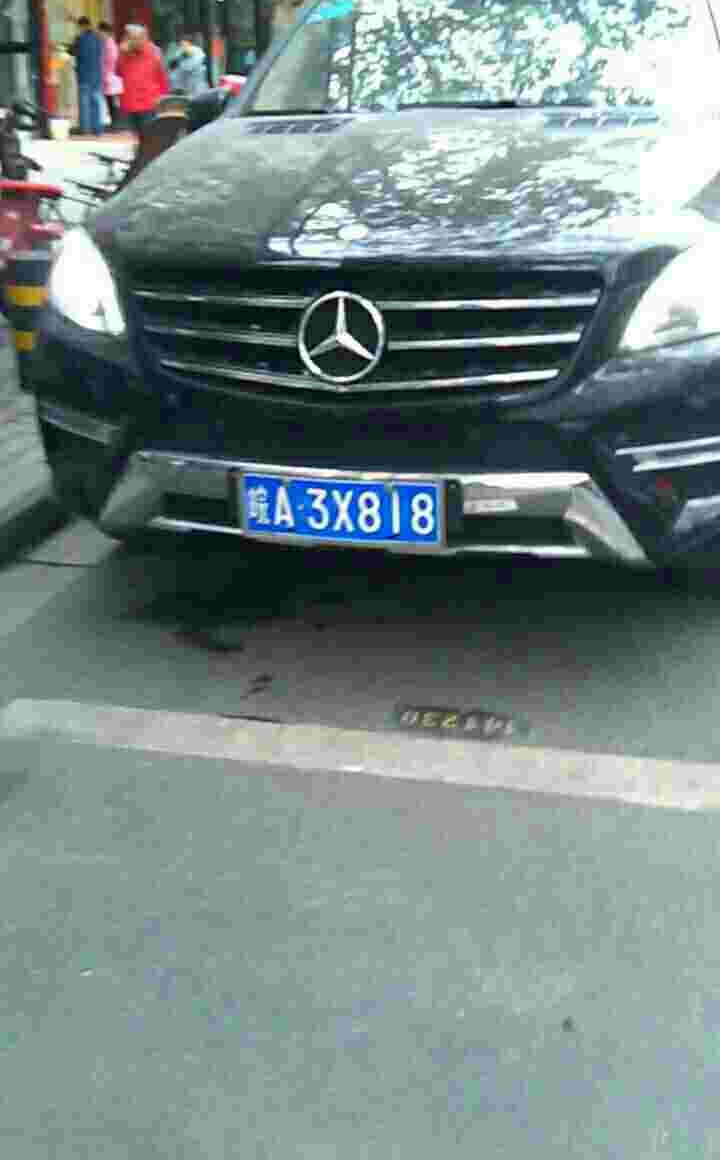license_plate: (244, 464, 434, 540)
